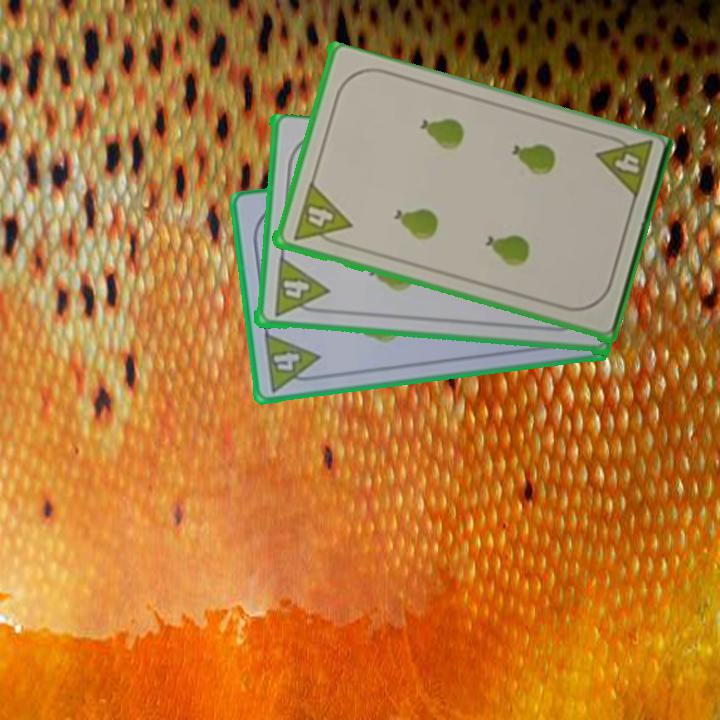4p: (591, 129, 656, 204), (289, 180, 353, 250), (260, 329, 325, 395), (270, 255, 330, 320)
